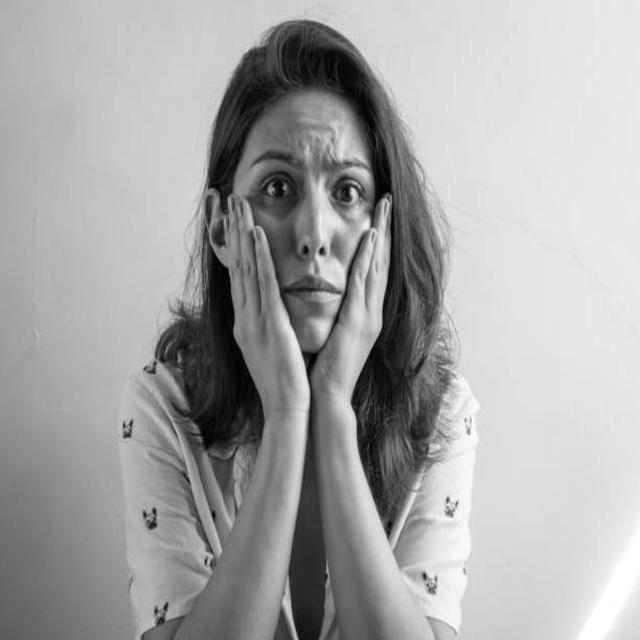Happiness: (241, 89, 380, 353)
